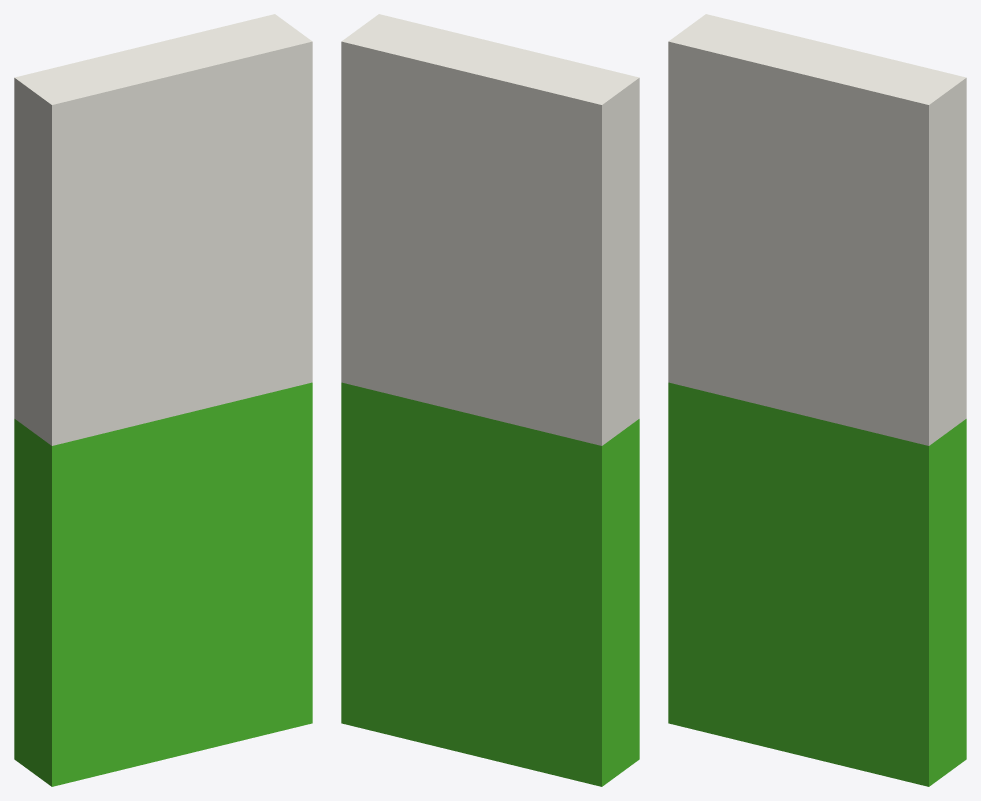
Rendered from SingleWall.fbx.
3 renders of one model, left to right at view 1: azimuth 30°, elevation 25°; view 2: azimuth 150°, elevation 25°; view 3: azimuth 330°, elevation 25°, orthographic.
Parts seen in each view (by area): view 1: Wall.002; view 2: Wall.002; view 3: Wall.002.
Part boxes in pixels (left/top/right/bottom): Wall.002: left=14, top=14, right=312, bottom=786; Wall.002: left=341, top=14, right=639, bottom=786; Wall.002: left=668, top=14, right=966, bottom=786.
Size of the model in its own units: 100 by 250 by 25.
1 material, 1 textured.
